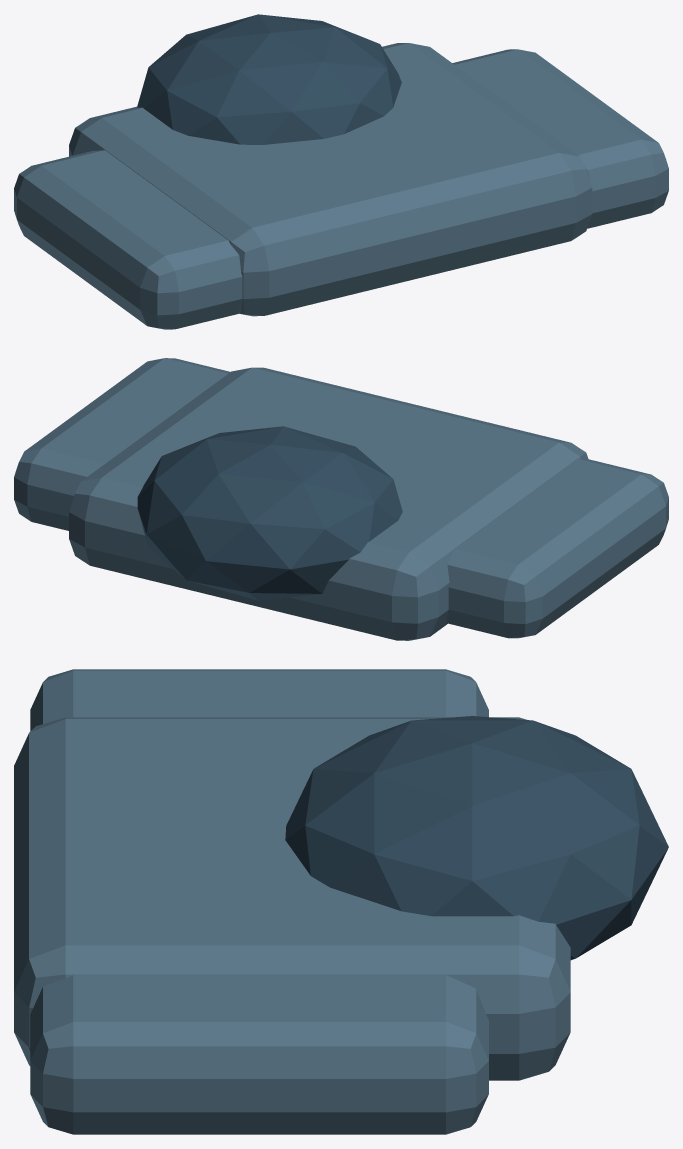
File: hoodie.glb
3 views of the same model, one above another, from view 1: azimuth 30°, elevation 25°; view 2: azimuth 150°, elevation 25°; view 3: azimuth 270°, elevation 25° (orthographic). The views are drawn at different scales.
Visible parts, largest first — view 1: hoodie_Mesh; view 2: hoodie_Mesh; view 3: hoodie_Mesh.
Boxes of the visible parts, bbox=[...] form: hoodie_Mesh: bbox=[14, 14, 668, 329]; hoodie_Mesh: bbox=[14, 358, 668, 640]; hoodie_Mesh: bbox=[14, 669, 668, 1134].
Bounding box in the file's own units: 0.56 × 0.15 × 0.4.
